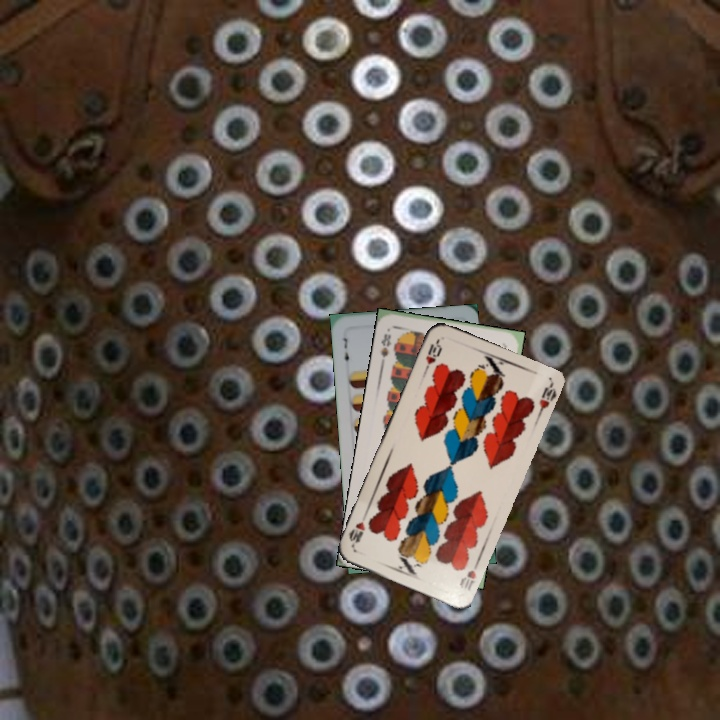E7: (339, 334, 352, 369)
H10: (455, 556, 482, 593), (420, 335, 444, 374)
S8: (377, 330, 394, 365)
